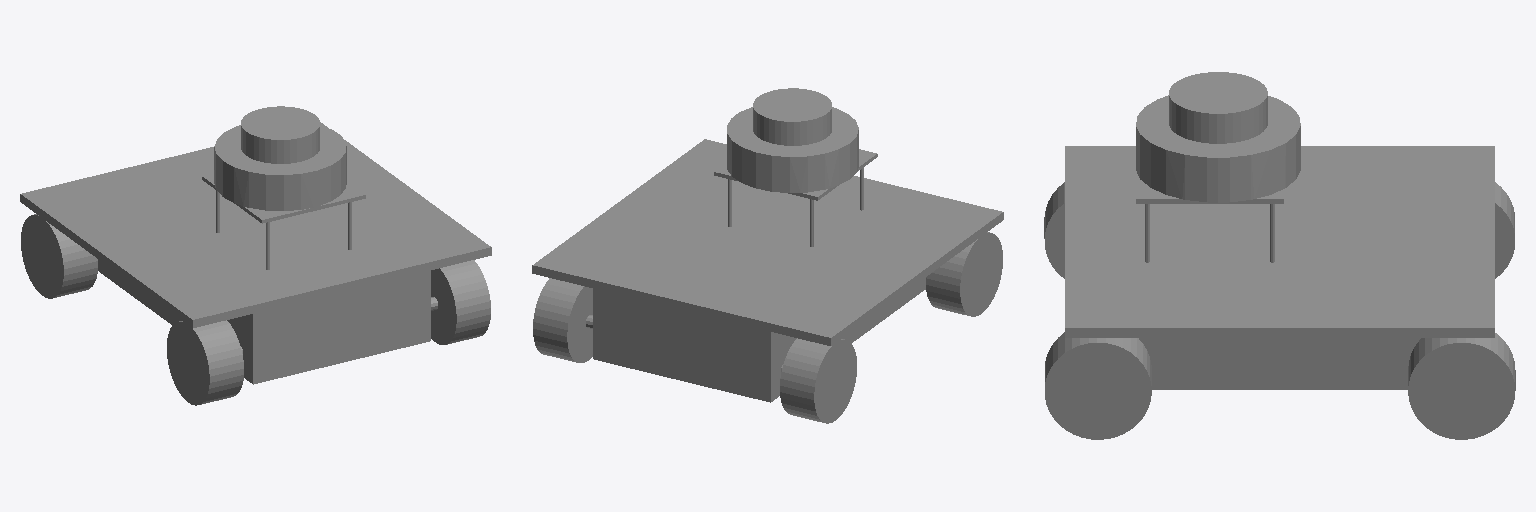
robot.urdf — myagv_description:
<?xml version="1.0" encoding="utf-8"?>
<!-- This URDF was automatically created by SolidWorks to URDF Exporter! -->
<robot
  name="myagv_description">

  <!-- Base Footprint -->
  <link name="base_footprint" />

  <joint name="base_footprint_to_base_link" type="fixed">
    <origin xyz="0 0 0" rpy="0 0 0" />
    <parent link="base_footprint" />
    <child link="base_link" />
  </joint>

  <link
    name="base_link">
    <inertial>
      <origin
        xyz="0.017042 -0.01085 0.13316"
        rpy="0 0 0" />
      <mass
        value="3.1167" />
      <inertia
        ixx="0.019724"
        ixy="9.6491E-20"
        ixz="1.1485E-18"
        iyy="0.024249"
        iyz="-0.00081356"
        izz="0.010726" />
    </inertial>
    <visual>
      <origin
        xyz="0 0 0"
        rpy="0 0 0" />
      <geometry>
        <mesh
          filename="package://myagv_description/meshes/base_link.STL" />
      </geometry>
      <material
        name="">
        <color
          rgba="0.62745 0.62745 0.62745 1" />
      </material>
    </visual>
    <collision>
      <origin
        xyz="0 0 0"
        rpy="0 0 0" />
      <geometry>
        <mesh
          filename="package://myagv_description/meshes/base_link.STL" />
      </geometry>
    </collision>
  </link>

  <link
    name="wheele1_link">
    <inertial>
      <origin
        xyz="0 -1.38777878078145E-17 -0.015"
        rpy="0 0 0" />
      <mass
        value="0.0995492172106266" />
      <inertia
        ixx="3.37534064604781E-05"
        ixy="1.6940658945086E-21"
        ixz="-3.20773854273555E-38"
        iyy="3.37534064604781E-05"
        iyz="-1.33966404900482E-37"
        izz="5.25744303393622E-05" />
    </inertial>
    <visual>
      <origin
        xyz="0 0 0"
        rpy="0 0 0" />
      <geometry>
        <mesh
          filename="package://myagv_description/meshes/wheele1_link.STL" />
      </geometry>
      <material
        name="">
        <color
          rgba="0.627450980392157 0.627450980392157 0.627450980392157 1" />
      </material>
    </visual>
    <collision>
      <origin
        xyz="0 0 0"
        rpy="0 0 0" />
      <geometry>
        <mesh
          filename="package://myagv_description/meshes/wheele1_link.STL" />
      </geometry>
    </collision>
  </link>
  <joint
    name="wheel1_joint"
    type="continuous">
    <origin
      xyz="0.10954 -0.24 -0.03337"
      rpy="-1.5708 0.23502 1.5708" />
    <parent
      link="base_link" />
    <child
      link="wheele1_link" />
    <axis
      xyz="0 0 1" />
    <limit
      effort="0.142"
      velocity="3.142" />
    <dynamics
      damping="0.1"
      friction="0.1" />
  </joint>

  <link
    name="wheele2_link">
    <inertial>
      <origin
        xyz="-8.04911692853238E-16 3.88578058618805E-16 -0.015"
        rpy="0 0 0" />
      <mass
        value="0.0995492172106266" />
      <inertia
        ixx="3.37534064604781E-05"
        ixy="0"
        ixz="-1.18992894185612E-38"
        iyy="3.37534064604781E-05"
        iyz="-1.08493658669582E-37"
        izz="5.25744303393622E-05" />
    </inertial>
    <visual>
      <origin
        xyz="0 0 0"
        rpy="0 0 0" />
      <geometry>
        <mesh
          filename="package://myagv_description/meshes/wheele2_link.STL" />
      </geometry>
      <material
        name="">
        <color
          rgba="0.627450980392157 0.627450980392157 0.627450980392157 1" />
      </material>
    </visual>
    <collision>
      <origin
        xyz="0 0 0"
        rpy="0 0 0" />
      <geometry>
        <mesh
          filename="package://myagv_description/meshes/wheele2_link.STL" />
      </geometry>
    </collision>
  </link>
  <joint
    name="wheele2_joint"
    type="continuous">
    <origin
      xyz="-0.075458 -0.24 -0.03337"
      rpy="-1.5708 -0.89065 -1.5708" />
    <parent
      link="base_link" />
    <child
      link="wheele2_link" />
    <axis
      xyz="0 0 1" />
    <limit
      effort="0.142"
      velocity="3.142" />
    <dynamics
      damping="0.1"
      friction="0.1" />
  </joint>

  <link
    name="wheele3_link">
    <inertial>
      <origin
        xyz="-5.27355936696949E-16 2.39391839684799E-16 -0.015"
        rpy="0 0 0" />
      <mass
        value="0.0995492172106266" />
      <inertia
        ixx="3.37534064604781E-05"
        ixy="8.470329472543E-22"
        ixz="-8.44433631491167E-22"
        iyy="3.37534064604781E-05"
        iyz="6.63072827142367E-23"
        izz="5.25744303393622E-05" />
    </inertial>
    <visual>
      <origin
        xyz="0 0 0"
        rpy="0 0 0" />
      <geometry>
        <mesh
          filename="package://myagv_description/meshes/wheele3_link.STL" />
      </geometry>
      <material
        name="">
        <color
          rgba="0.627450980392157 0.627450980392157 0.627450980392157 1" />
      </material>
    </visual>
    <collision>
      <origin
        xyz="0 0 0"
        rpy="0 0 0" />
      <geometry>
        <mesh
          filename="package://myagv_description/meshes/wheele3_link.STL" />
      </geometry>
    </collision>
  </link>
  <joint
    name="wheele3_joint"
    type="continuous">
    <origin
      xyz="0.10954 -0.02 -0.03337"
      rpy="-1.5708 -1.4924 1.5708" />
    <parent
      link="base_link" />
    <child
      link="wheele3_link" />
    <axis
      xyz="0 0 1" />
    <limit
      effort="0.142"
      velocity="3.142" />
    <dynamics
      damping="0.1"
      friction="0.1" />
  </joint>

  <link
    name="wheele4_link">
    <inertial>
      <origin
        xyz="-2.0122792321331E-16 8.67361737988404E-17 -0.015"
        rpy="0 0 0" />
      <mass
        value="0.0995492172106266" />
      <inertia
        ixx="3.37534064604781E-05"
        ixy="0"
        ixz="-2.2094462930222E-23"
        iyy="3.37534064604781E-05"
        iyz="5.98535079652797E-22"
        izz="5.25744303393622E-05" />
    </inertial>
    <visual>
      <origin
        xyz="0 0 0"
        rpy="0 0 0" />
      <geometry>
        <mesh
          filename="package://myagv_description/meshes/wheele4_link.STL" />
      </geometry>
      <material
        name="">
        <color
          rgba="0.627450980392157 0.627450980392157 0.627450980392157 1" />
      </material>
    </visual>
    <collision>
      <origin
        xyz="0 0 0"
        rpy="0 0 0" />
      <geometry>
        <mesh
          filename="package://myagv_description/meshes/wheele4_link.STL" />
      </geometry>
    </collision>
  </link>
  <joint
    name="wheele4_joint"
    type="continuous">
    <origin
      xyz="-0.075458 -0.02 -0.03337"
      rpy="1.5708 -0.7485 1.5708" />
    <parent
      link="base_link" />
    <child
      link="wheele4_link" />
    <axis
      xyz="0 0 1" />
    <limit
      effort="0.142"
      velocity="3.142" />
    <dynamics
      damping="0.1"
      friction="0.1" />
  </joint>

  <link
    name="lidar_link">
    <inertial>
      <origin
        xyz="1.38777878078145E-17 2.77555756156289E-17 -0.00999999999999998"
        rpy="0 0 0" />
      <mass
        value="0.0565486677646162" />
      <inertia
        ixx="1.46084058391925E-05"
        ixy="0"
        ixz="1.75682712935409E-21"
        iyy="1.46084058391925E-05"
        iyz="2.11526852188391E-21"
        izz="2.54469004940773E-05" />
    </inertial>
    <visual>
      <origin
        xyz="0 0 0"
        rpy="0 0 0" />
      <geometry>
        <mesh
          filename="package://myagv_description/meshes/lidar_link.STL" />
      </geometry>
      <material
        name="">
        <color
          rgba="0.627450980392157 0.627450980392157 0.627450980392157 1" />
      </material>
    </visual>
    <collision>
      <origin
        xyz="0 0 0"
        rpy="0 0 0" />
      <geometry>
        <mesh
          filename="package://myagv_description/meshes/lidar_link.STL" />
      </geometry>
    </collision>
  </link>
  <joint
    name="lidar_joint"
    type="continuous">
    <origin
      xyz="0.017042 -0.16725 0.08863"
      rpy="3.1416 0 -0.69048" />
    <parent
      link="base_link" />
    <child
      link="lidar_link" />
    <axis
      xyz="0 0 1" />
    <limit
      effort="0"
      velocity="2" />
  </joint>
</robot>

--- What the picture shows (computed from the rendered views, not written in the file) ---
Views: 3 orthographic renders of the robot side by side, from view 1: azimuth 30°, elevation 25°; view 2: azimuth 150°, elevation 25°; view 3: azimuth 270°, elevation 25°.
Model myagv_description with 7 links and 6 joints (5 continuous, 1 fixed), rooted at base_footprint, posed every joint at zero.
Visible links, largest first — view 1: base_link, wheele2_link, wheele4_link, wheele1_link, lidar_link; view 2: base_link, wheele4_link, wheele2_link, wheele3_link, lidar_link; view 3: base_link, wheele3_link, wheele1_link, lidar_link, wheele2_link, wheele4_link.
Link boxes in pixels (x1,y1,x2,y2): base_link: [20, 122, 491, 384]; wheele2_link: [167, 320, 243, 405]; wheele4_link: [21, 214, 97, 298]; wheele1_link: [431, 260, 490, 344]; lidar_link: [241, 106, 319, 163]; base_link: [532, 107, 1003, 402]; wheele4_link: [780, 338, 856, 423]; wheele2_link: [926, 232, 1002, 316]; wheele3_link: [533, 278, 592, 362]; lidar_link: [753, 88, 831, 145]; base_link: [1065, 95, 1494, 389]; wheele3_link: [1408, 333, 1515, 439]; wheele1_link: [1045, 332, 1151, 439]; lidar_link: [1169, 72, 1267, 143]; wheele2_link: [1044, 182, 1064, 278]; wheele4_link: [1495, 182, 1514, 278].
Size in the robot's own frame: 0.26 by 0.2849 by 0.1745 metres.
Meshes: 6 distinct files referenced, 6 mesh visuals loaded (6 binary STL).